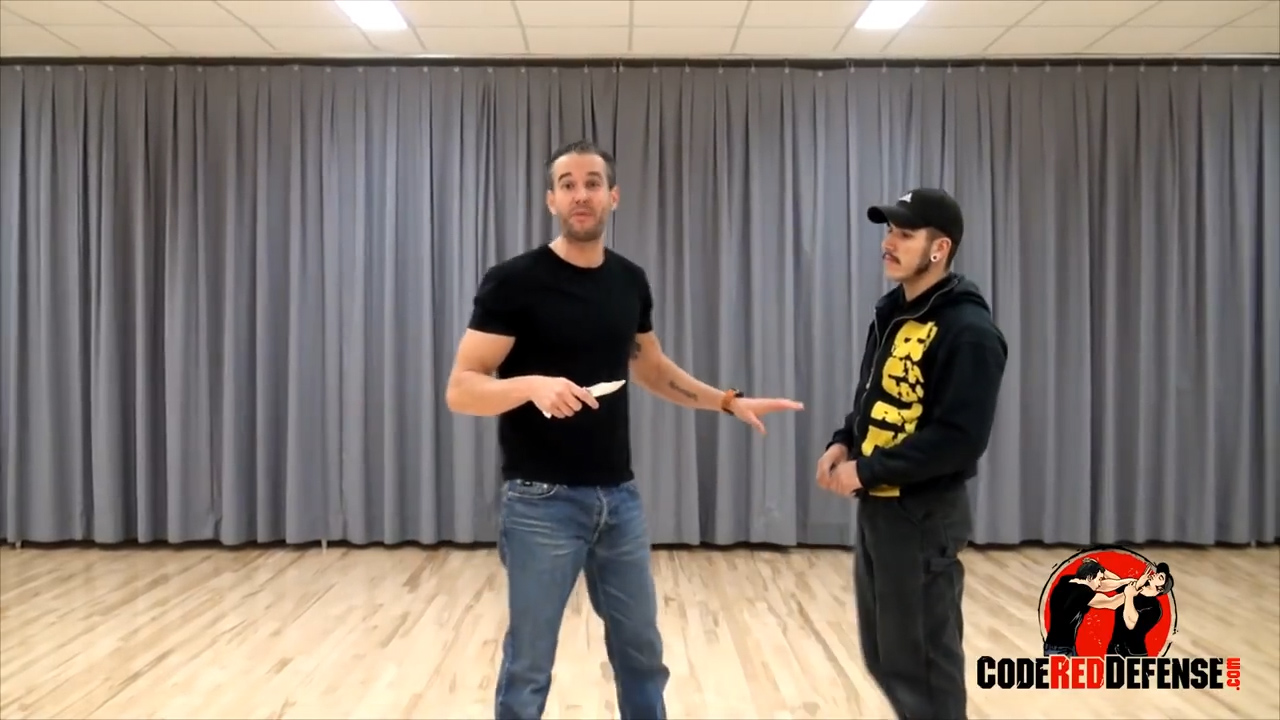knife: (538, 369, 632, 425)
